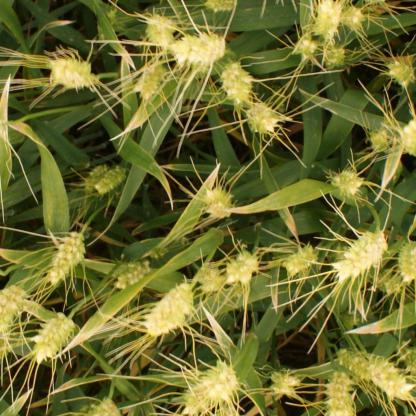whd: (144, 278, 198, 340), (332, 228, 390, 283), (44, 229, 88, 290), (29, 311, 76, 367), (365, 354, 416, 403), (44, 53, 99, 95), (168, 29, 228, 67), (194, 361, 239, 406), (218, 57, 256, 105), (0, 282, 29, 344), (323, 368, 360, 415), (177, 381, 222, 416), (197, 183, 237, 222), (224, 247, 262, 288), (82, 160, 126, 193), (312, 0, 345, 44), (146, 10, 178, 54), (335, 348, 374, 383), (132, 58, 167, 96), (282, 241, 321, 275), (328, 166, 367, 198), (113, 259, 151, 291), (268, 368, 304, 401), (386, 55, 416, 92), (245, 107, 282, 136), (195, 264, 226, 296), (397, 235, 415, 286), (97, 7, 118, 45), (340, 3, 367, 32), (398, 117, 416, 158), (380, 269, 403, 299), (200, 0, 238, 17), (88, 397, 122, 415), (396, 340, 416, 366), (324, 46, 349, 66), (368, 128, 388, 152), (294, 38, 316, 57)
